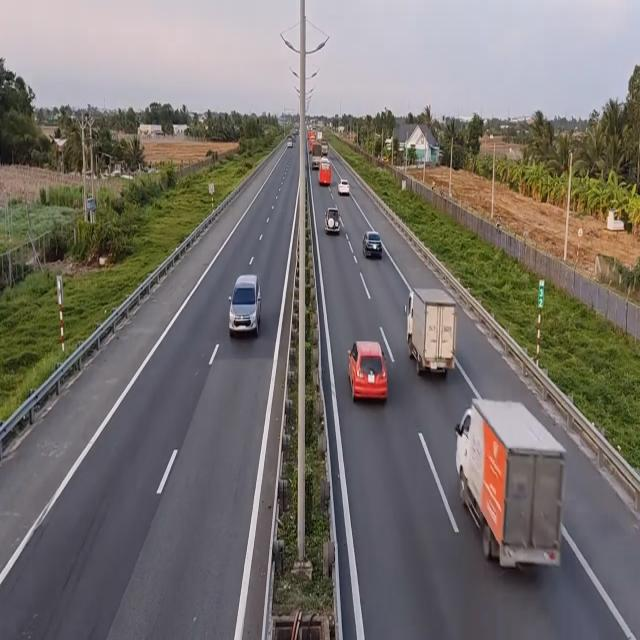car: (348, 340, 392, 404), (226, 273, 260, 340), (361, 232, 382, 260), (324, 206, 341, 236), (337, 180, 351, 197)
truck: (455, 397, 566, 578), (406, 280, 457, 380)
